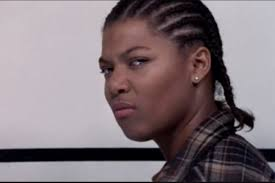black_female: (88, 1, 238, 148)
